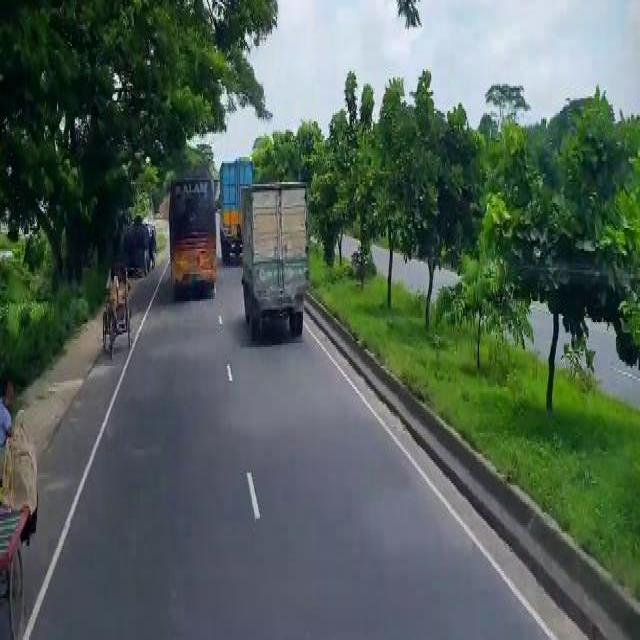vehicle: (234, 176, 313, 349), (164, 171, 223, 303), (97, 256, 134, 365), (218, 156, 253, 262)
